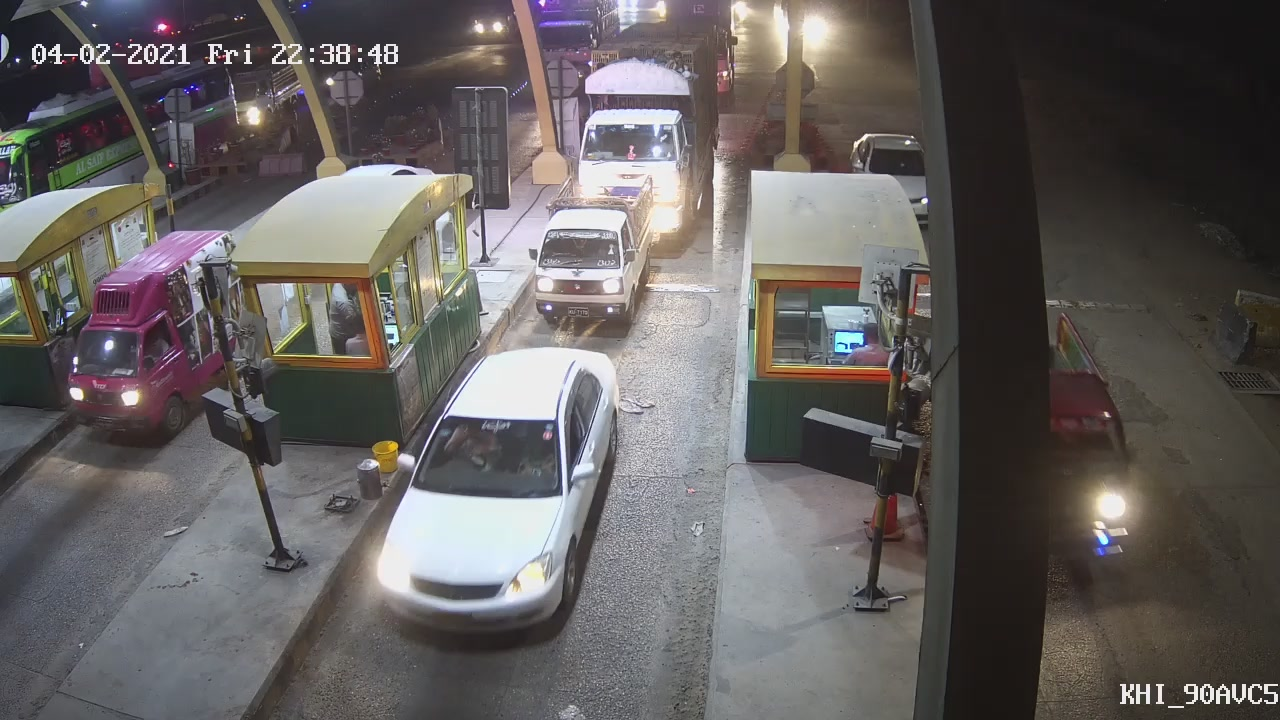F1: (369, 346, 628, 629)
F2: (522, 179, 660, 331)
